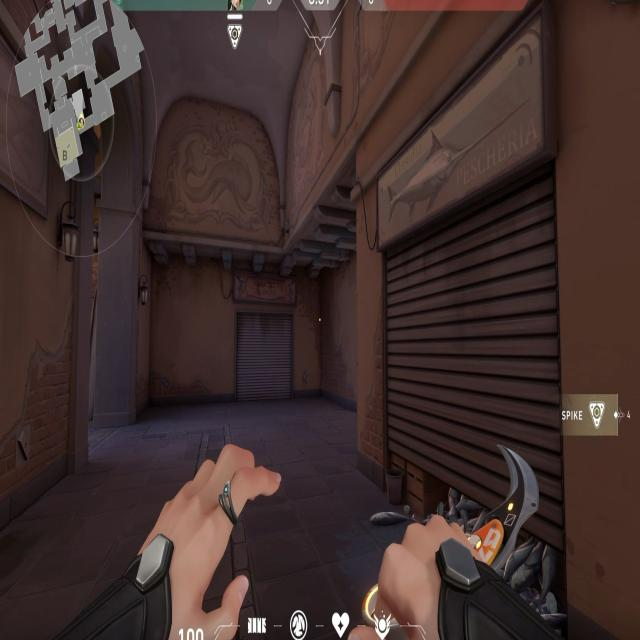B_Main_Corner: (346, 57, 596, 628)
